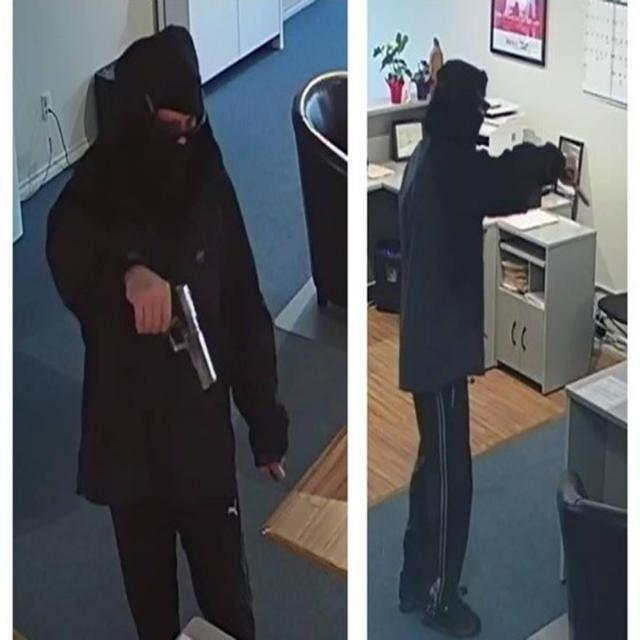gun: (143, 286, 219, 393), (551, 156, 591, 210)
